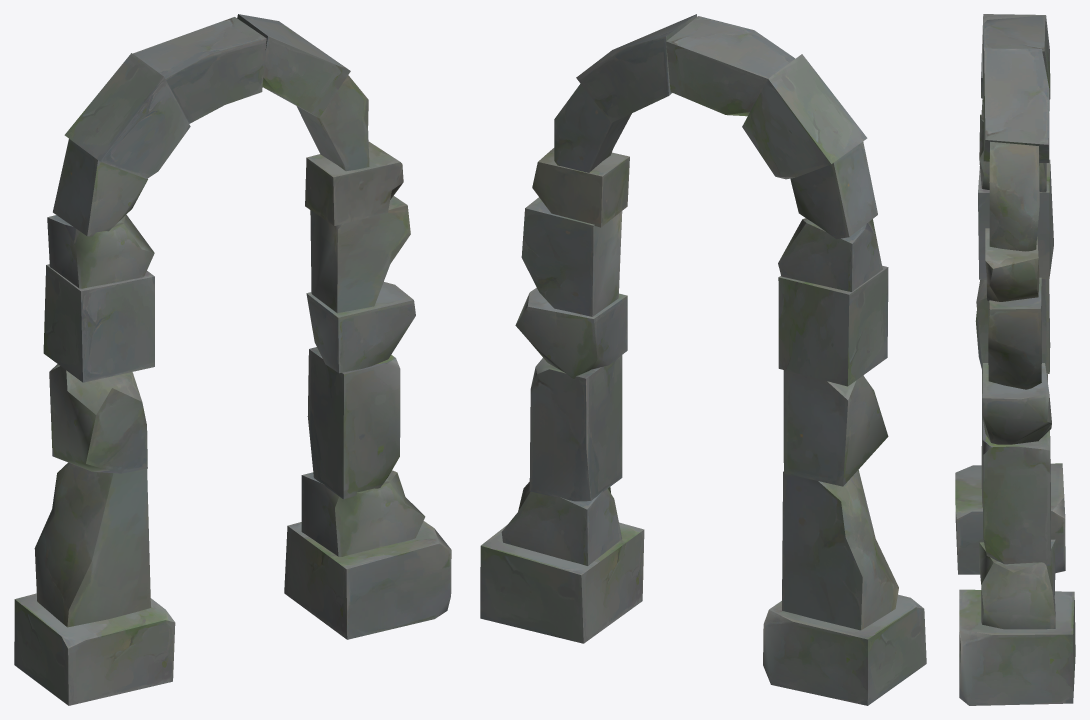
File: Area_MdBuild_SdArch03_Lod1.fbx
The picture shows the model from 3 angles, left to right: view 1: azimuth 30°, elevation 25°; view 2: azimuth 150°, elevation 25°; view 3: azimuth 270°, elevation 25°; orthographic projection. The views are drawn at different scales.
Visible parts, largest first — view 1: Area_MdBuild_SdArch03_Lod1; view 2: Area_MdBuild_SdArch03_Lod1; view 3: Area_MdBuild_SdArch03_Lod1.
Boxes of the visible parts, x1,y1,x2,y2 form: Area_MdBuild_SdArch03_Lod1: [14, 14, 451, 705]; Area_MdBuild_SdArch03_Lod1: [480, 14, 926, 705]; Area_MdBuild_SdArch03_Lod1: [955, 14, 1075, 705].
Bounding box in the file's own units: 6.95 × 10.51 × 1.98.
1 material, 1 textured.
